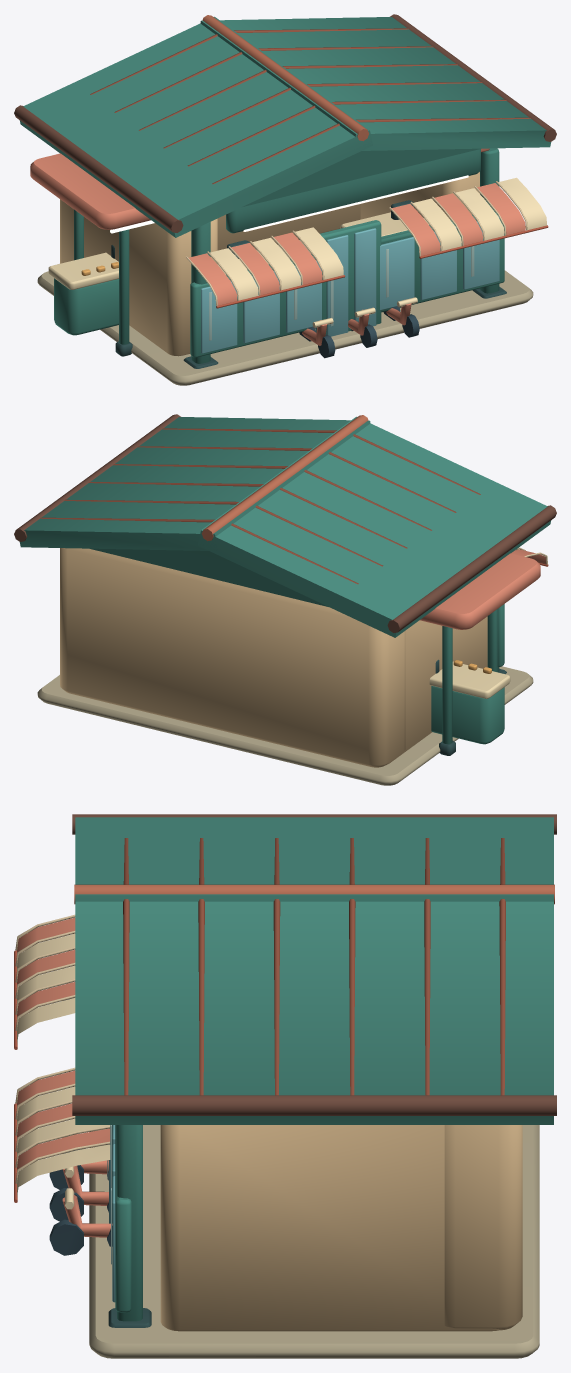
Rendered from tropical_scooters.glb.
3 views of the same model, one above another, from view 1: azimuth 30°, elevation 25°; view 2: azimuth 150°, elevation 25°; view 3: azimuth 270°, elevation 25° (orthographic). The views are drawn at different scales.
Visible parts, largest first — view 1: TropicalScooters; view 2: TropicalScooters; view 3: TropicalScooters.
Boxes of the visible parts, x1,y1,x2,y2 form: TropicalScooters: (14,14,556,385); TropicalScooters: (14,414,556,785); TropicalScooters: (14,814,556,1358).
Bounding box in the file's own units: 7.08 × 3.61 × 5.21.
